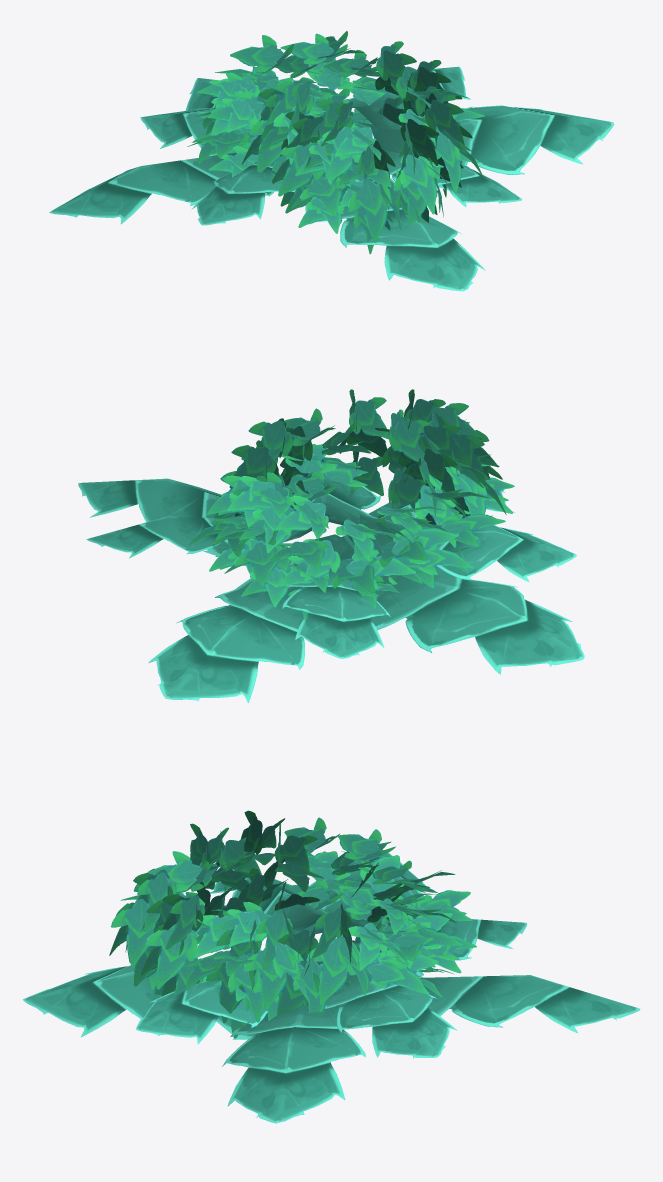
The model's file is M_Bush5.FBX.
The picture shows the model from 3 angles, top to bottom: view 1: azimuth 30°, elevation 25°; view 2: azimuth 150°, elevation 25°; view 3: azimuth 270°, elevation 25°; orthographic projection. The views are drawn at different scales.
Parts seen in each view (by area): view 1: Object494; view 2: Object494; view 3: Object494.
Part boxes in pixels (x1,y1,x2,y2): Object494: (49, 31, 614, 291); Object494: (78, 389, 584, 702); Object494: (23, 810, 640, 1123).
Bounding box in the file's own units: 309 × 115 × 289.
